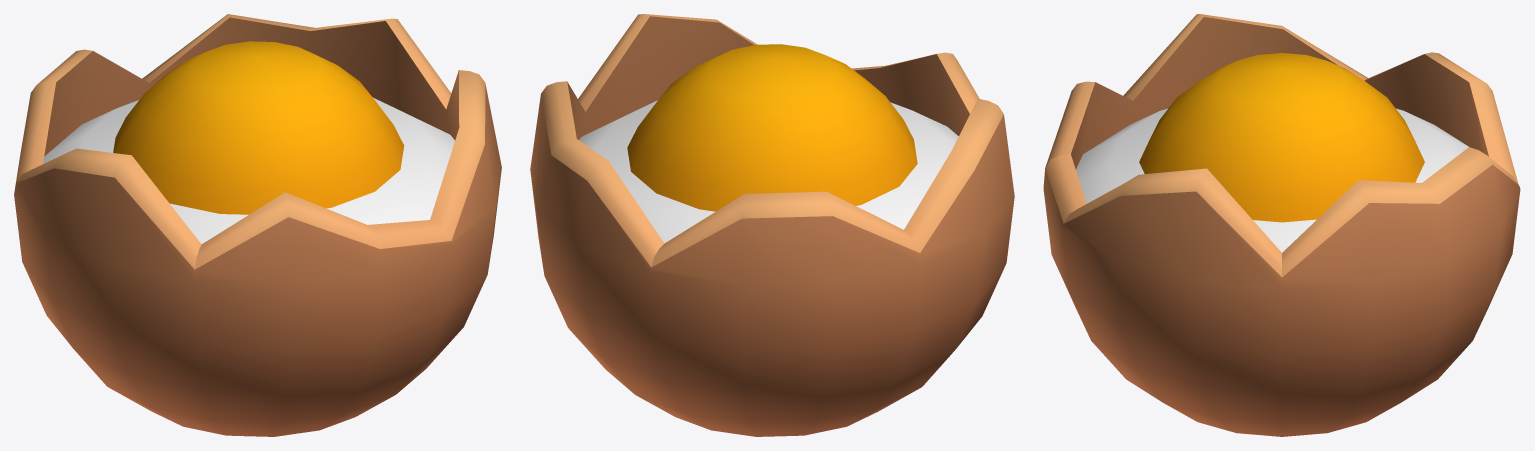
The model's file is Egg_V1_01.fbx.
3 views of the same model, side by side, from view 1: azimuth 30°, elevation 25°; view 2: azimuth 150°, elevation 25°; view 3: azimuth 270°, elevation 25° (orthographic). The views are drawn at different scales.
Visible parts, largest first — view 1: Egg_V1_01; view 2: Egg_V1_01; view 3: Egg_V1_01.
Boxes of the visible parts, <box> form: Egg_V1_01: <box>14,14,501,436</box>; Egg_V1_01: <box>530,14,1014,436</box>; Egg_V1_01: <box>1043,14,1520,436</box>.
Size of the model in its own units: 25.77 by 20.7 by 25.78.
